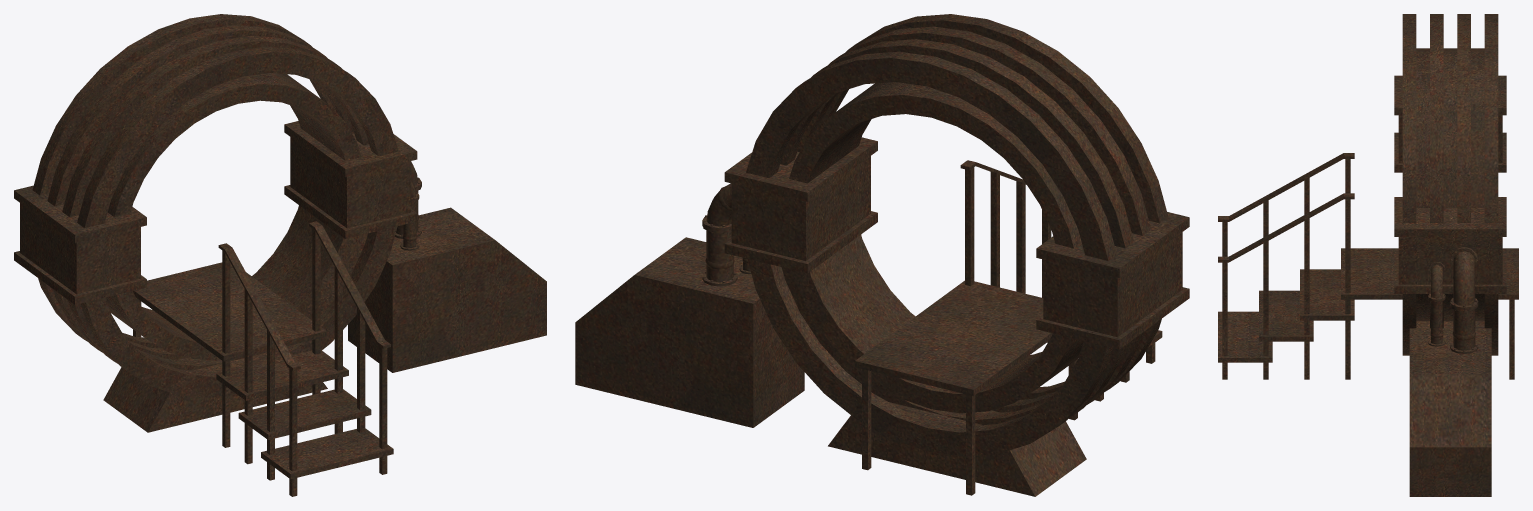
File: portal_mx_1.obj
3 views of the same model, side by side, from view 1: azimuth 30°, elevation 25°; view 2: azimuth 150°, elevation 25°; view 3: azimuth 270°, elevation 25° (orthographic). The views are drawn at different scales.
Parts seen in each view (by area): view 1: portal_mx_1; view 2: portal_mx_1; view 3: portal_mx_1.
Part boxes in pixels (box(x1,y1,x2,y2)): portal_mx_1: box(14, 14, 546, 496); portal_mx_1: box(575, 14, 1189, 496); portal_mx_1: box(1218, 14, 1518, 496).
Size of the model in its own units: 5.33 by 3.79 by 3.15.
